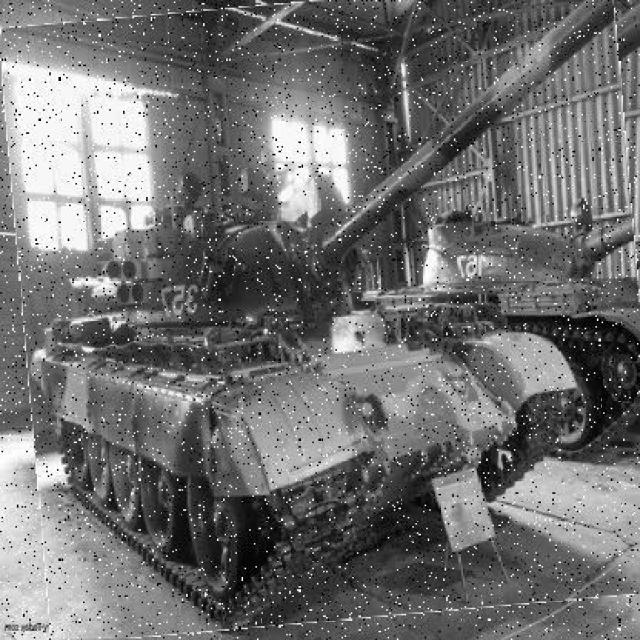Tank: (11, 1, 639, 636), (344, 209, 640, 495)
